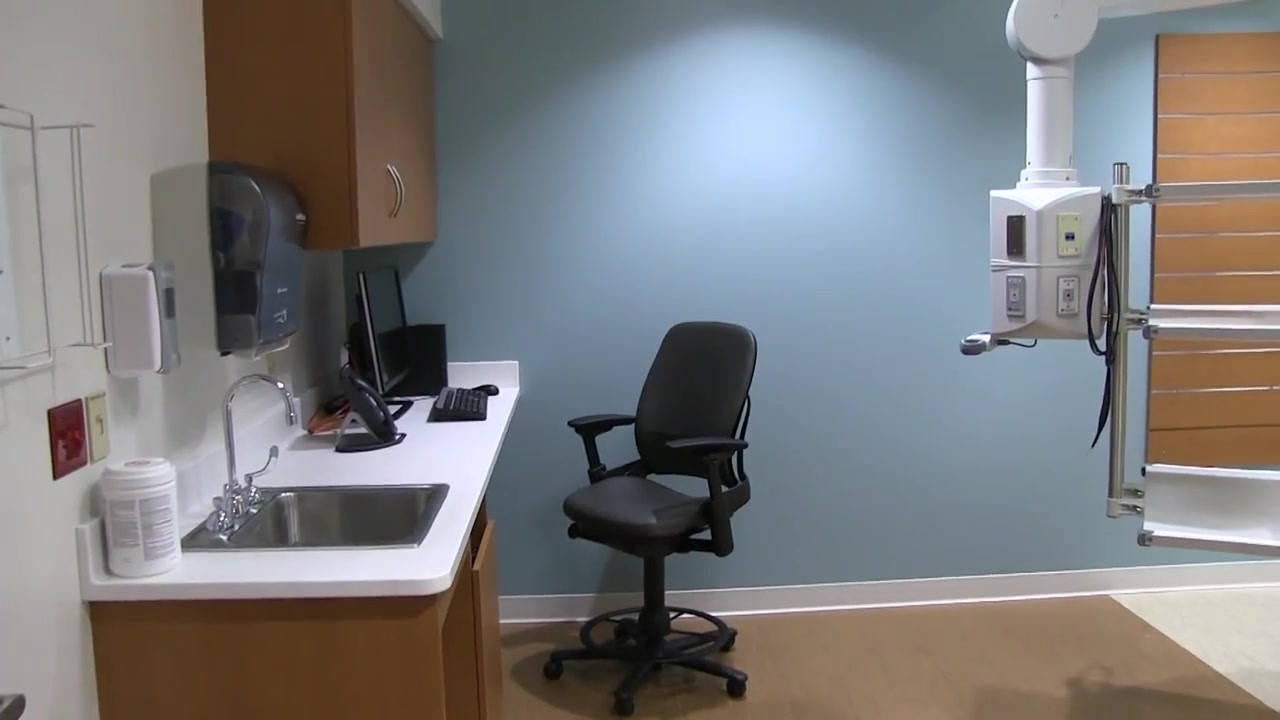cabinet: (205, 1, 444, 246)
chair: (544, 321, 758, 720)
computer: (357, 266, 416, 397)
countertop: (80, 371, 522, 602)
dispenser: (151, 162, 308, 360), (99, 261, 184, 378)
drawer: (97, 542, 486, 717)
faucet: (208, 373, 299, 534)
handle: (382, 162, 407, 219)
keyboard: (427, 386, 488, 422)
light_switch: (81, 389, 113, 464)
mouse: (472, 382, 499, 396)
sink: (176, 477, 453, 556)
telephone: (331, 360, 406, 453)
